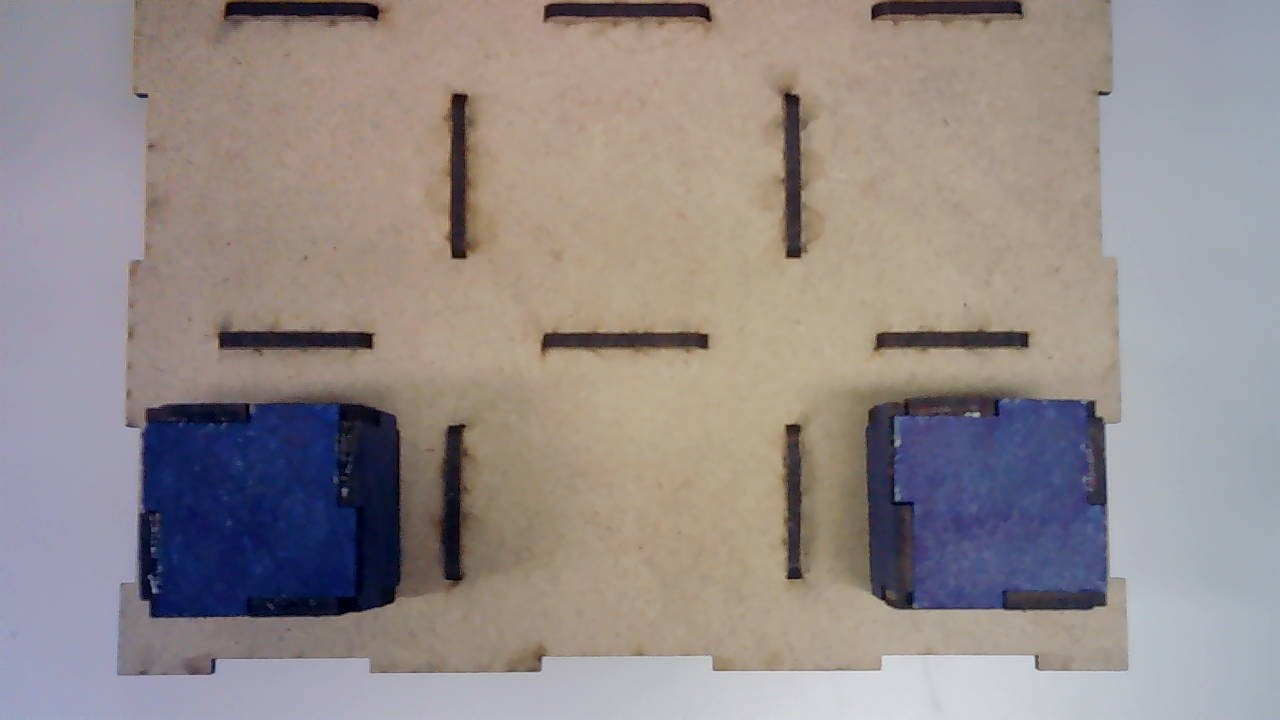blue box: (140, 400, 402, 619), (868, 395, 1111, 611)
